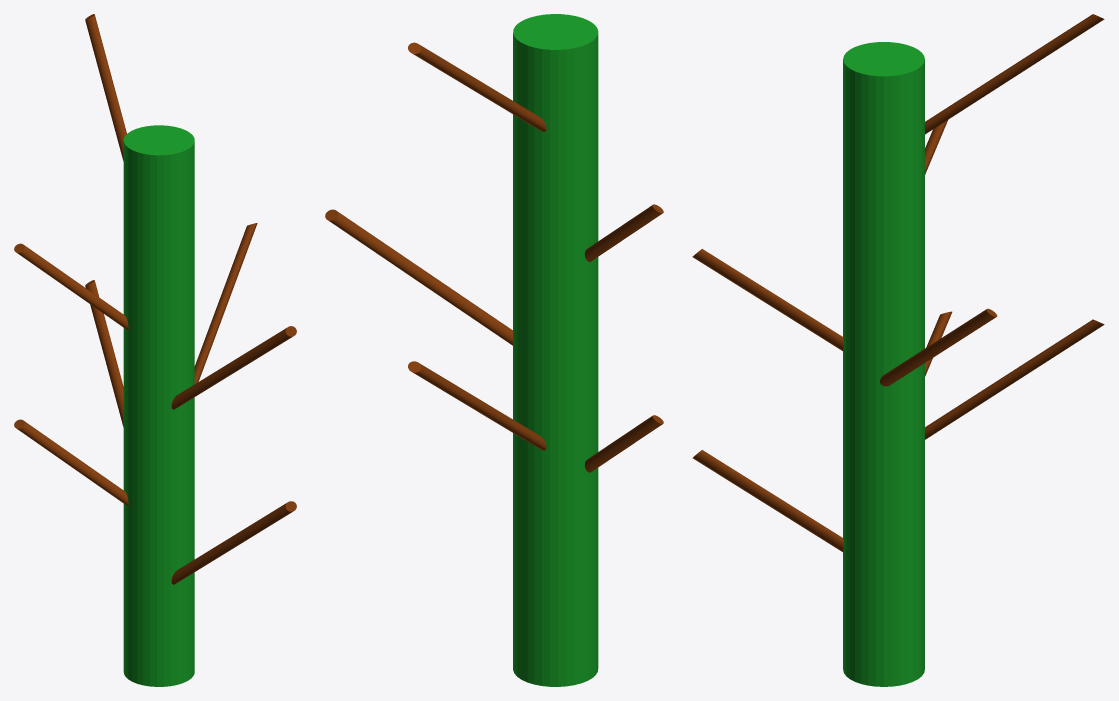
File: kaktus.obj
3 renders of one model, left to right at view 1: azimuth 30°, elevation 25°; view 2: azimuth 150°, elevation 25°; view 3: azimuth 270°, elevation 25°, orthographic. The views are drawn at different scales.
Visible parts, largest first — view 1: Cylinder_Cylinder_Material, Cylinder_Cylinder_Material.001; view 2: Cylinder_Cylinder_Material, Cylinder_Cylinder_Material.001; view 3: Cylinder_Cylinder_Material, Cylinder_Cylinder_Material.001.
Part boxes in pixels (x1,y1,x2,y2): Cylinder_Cylinder_Material: [123, 125, 194, 686]; Cylinder_Cylinder_Material.001: [14, 14, 296, 584]; Cylinder_Cylinder_Material: [513, 14, 598, 686]; Cylinder_Cylinder_Material.001: [325, 42, 663, 472]; Cylinder_Cylinder_Material: [843, 42, 924, 686]; Cylinder_Cylinder_Material.001: [692, 14, 1104, 551].
Size of the model in its own units: 2.28 by 4.85 by 2.71.
